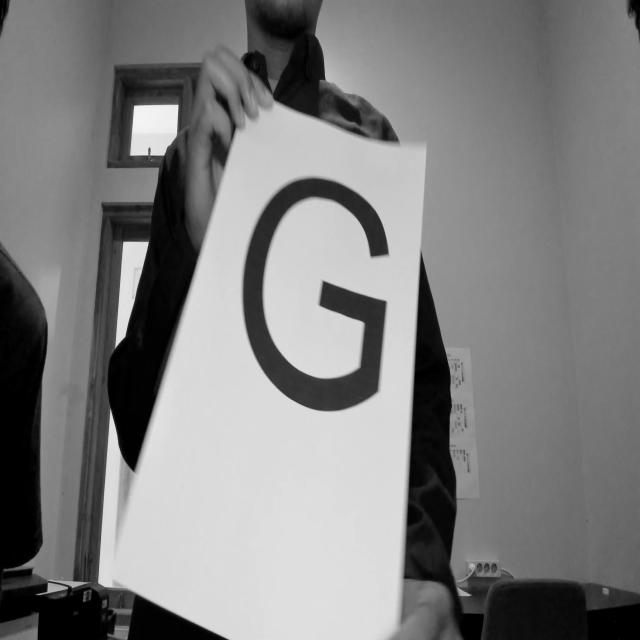g: (236, 155, 397, 461)
